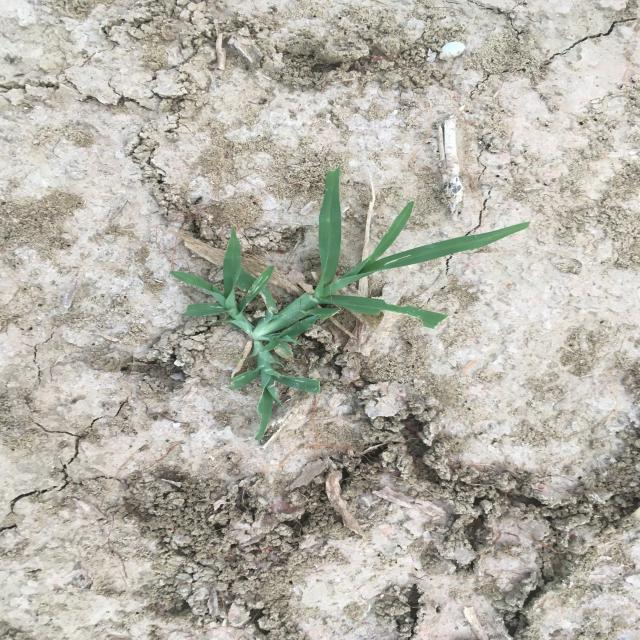Goosegrass: (167, 163, 534, 443)
